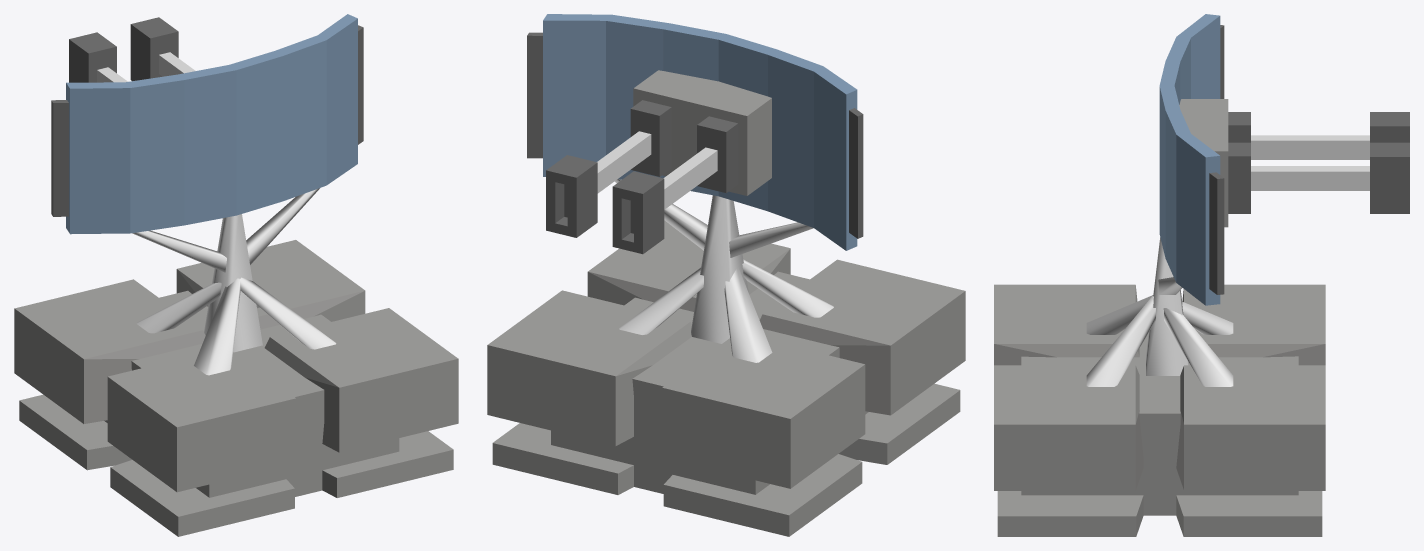
Rendered from TorreRadarAVC3.fbx.
3 views of the same model, side by side, from view 1: azimuth 30°, elevation 25°; view 2: azimuth 150°, elevation 25°; view 3: azimuth 270°, elevation 25° (orthographic). The views are drawn at different scales.
Parts seen in each view (by area): view 1: Base, Torre; view 2: Base, Torre; view 3: Base, Torre.
Part boxes in pixels (left/top/right/bottom): Base: left=14, top=240, right=458, bottom=536; Torre: left=51, top=14, right=363, bottom=352; Base: left=487, top=220, right=965, bottom=536; Torre: left=527, top=14, right=863, bottom=343; Base: left=994, top=284, right=1325, bottom=536; Torre: left=1146, top=14, right=1409, bottom=375.
Bounding box in the file's own units: 4.45 × 5.14 × 5.06.
